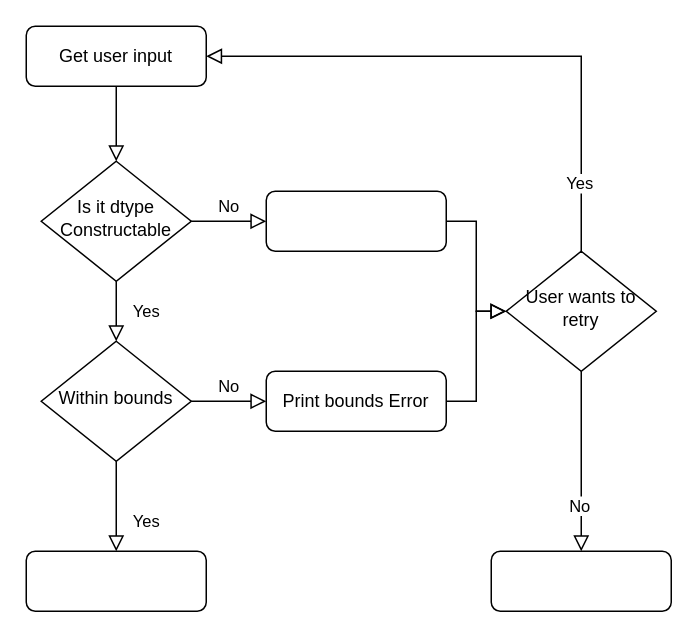
The diagram is 698 pixels wide and 638 high, and some of its shapes have lost their labels. The centre of each missing label's shape, as x and y in pixels:
Print type Error: the point at 355,220
Raise ValueError: the point at 580,580
Return Value: the point at 115,580
